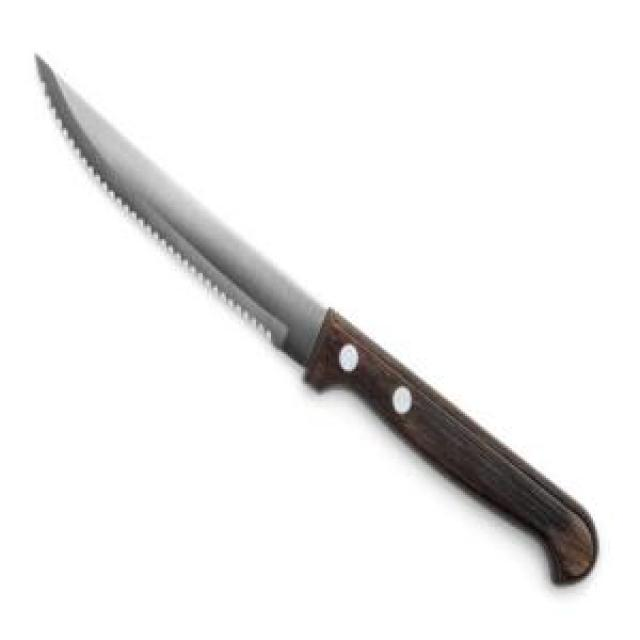knife: (30, 53, 597, 584)
